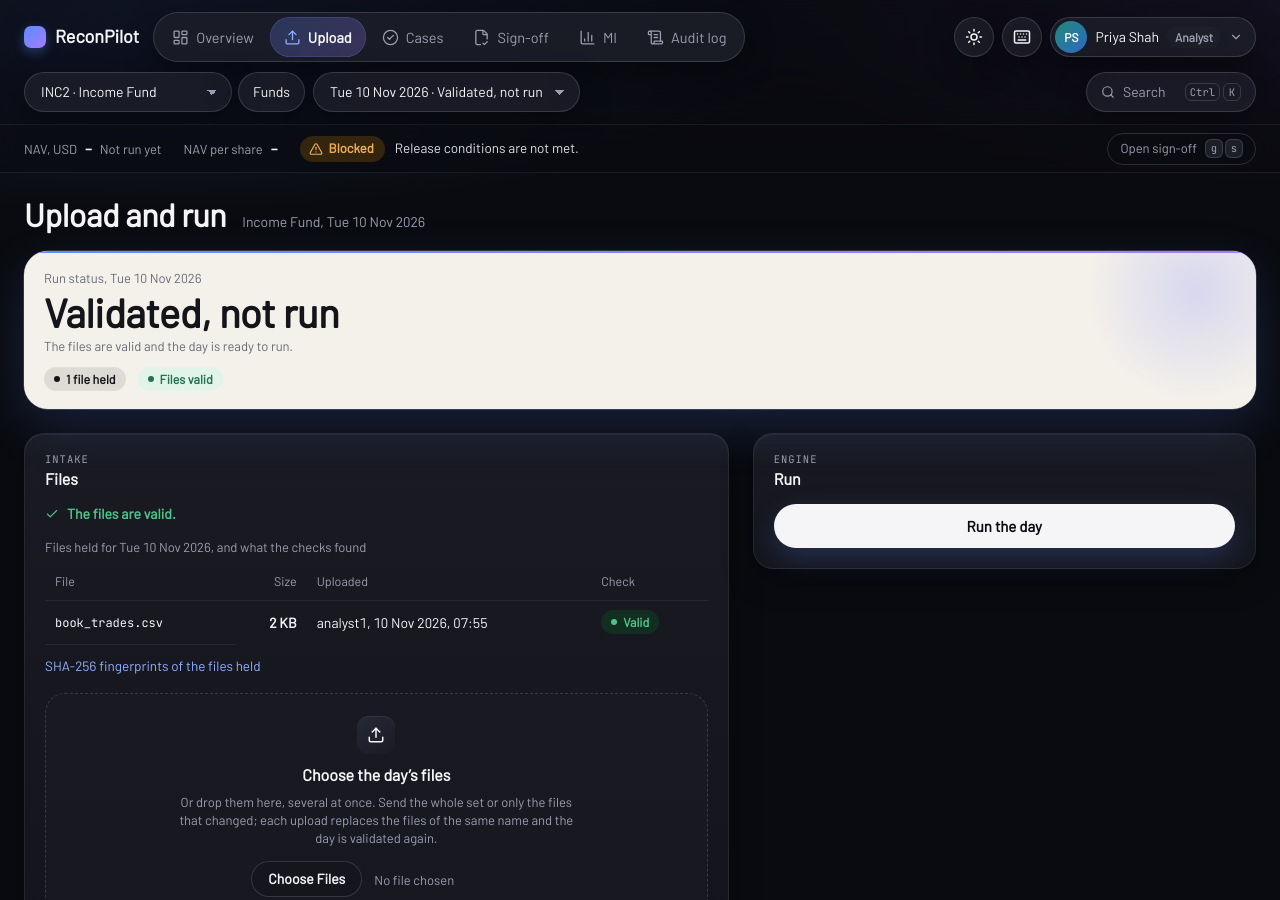
Test case: UploadScreen › runs a validated day, follows the job and offers the cases when it is ready
The image size is (1280, 900).
Expected: the text "The files are valid." is shown, [45,505,176,522]
Expected: the text "book_trades.csv" is shown, [55,615,163,631]
Click the button "Run the day".
click(1004, 526)  # box [774,504,1235,548]
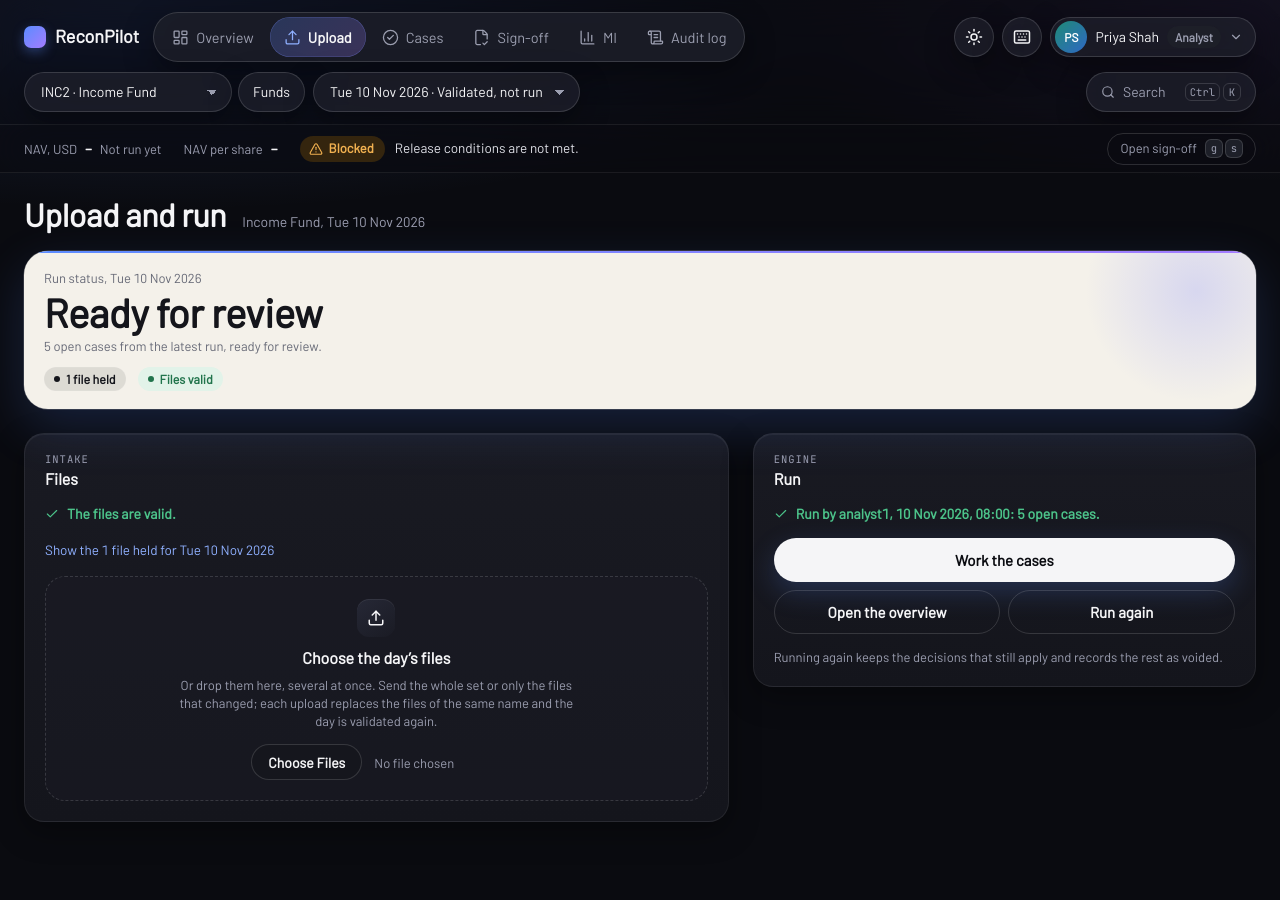
Now the text "Run by analyst1, 10 Nov 2026, 08:00: 5 open cases." is shown, box [796,504,1100,524]
Now the button "Run again" is shown, box [1008,590,1235,634]
